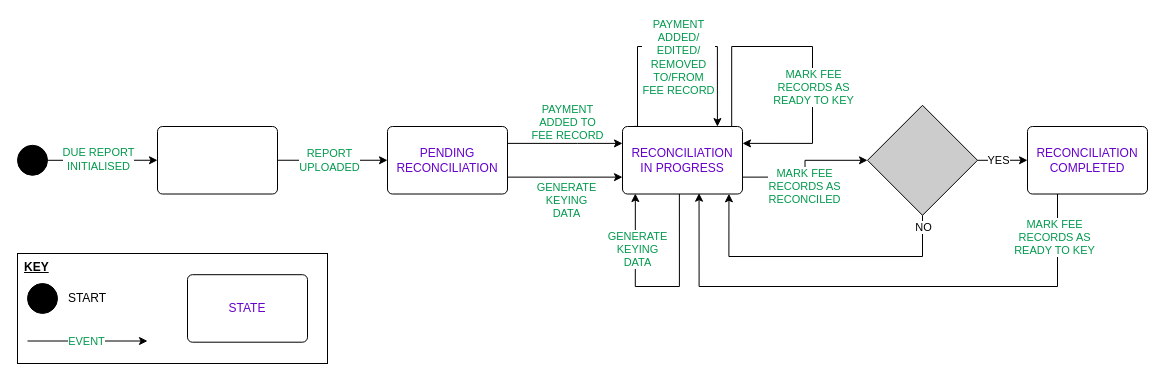
Some shapes in this 1165 by 381 pixel diagram are drawn without their labels. Each missing label, with the centre of its shape:
ALL FEE RECORDS RECONCILED?: point (922, 159)
REPORT NOT RECEIVED: point (217, 160)
